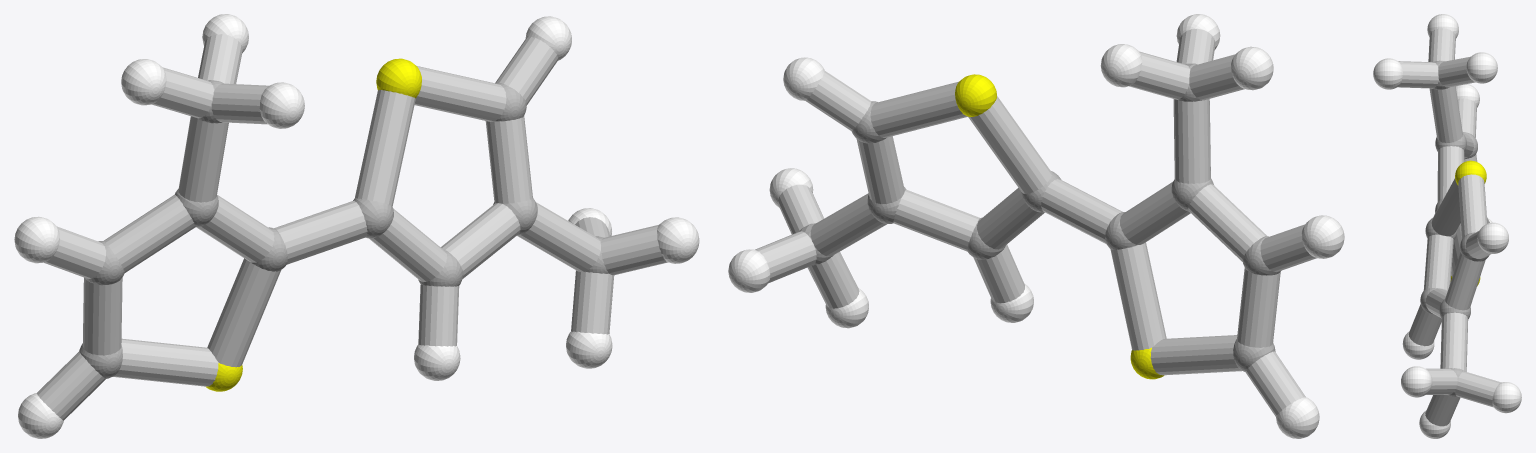
The model's file is Methylthiophene_Phi_20_Theta_340_Methylthiophene.glb.
3 renders of one model, left to right at view 1: azimuth 30°, elevation 25°; view 2: azimuth 150°, elevation 25°; view 3: azimuth 270°, elevation 25°, orthographic. The views are drawn at different scales.
Visible parts, largest first — view 1: grp7965, grp3621, grp1, grp7241; view 2: grp7965, grp3621, grp1, grp7241; view 3: grp7965, grp3621, grp1, grp7241.
Boxes of the visible parts, <box> form: grp7965: <box>37,34,667,420</box>; grp3621: <box>14,14,699,438</box>; grp1: <box>79,80,608,378</box>; grp7241: <box>206,58,421,391</box>; grp7965: <box>755,28,1316,416</box>; grp3621: <box>728,14,1344,438</box>; grp1: <box>799,63,1280,371</box>; grp7241: <box>955,74,1164,379</box>; grp7965: <box>1398,28,1500,426</box>; grp3621: <box>1373,14,1521,438</box>; grp1: <box>1420,60,1489,397</box>; grp7241: <box>1450,160,1486,286</box>.
Bounding box in the file's own units: 9.55 × 5.79 × 2.82.
